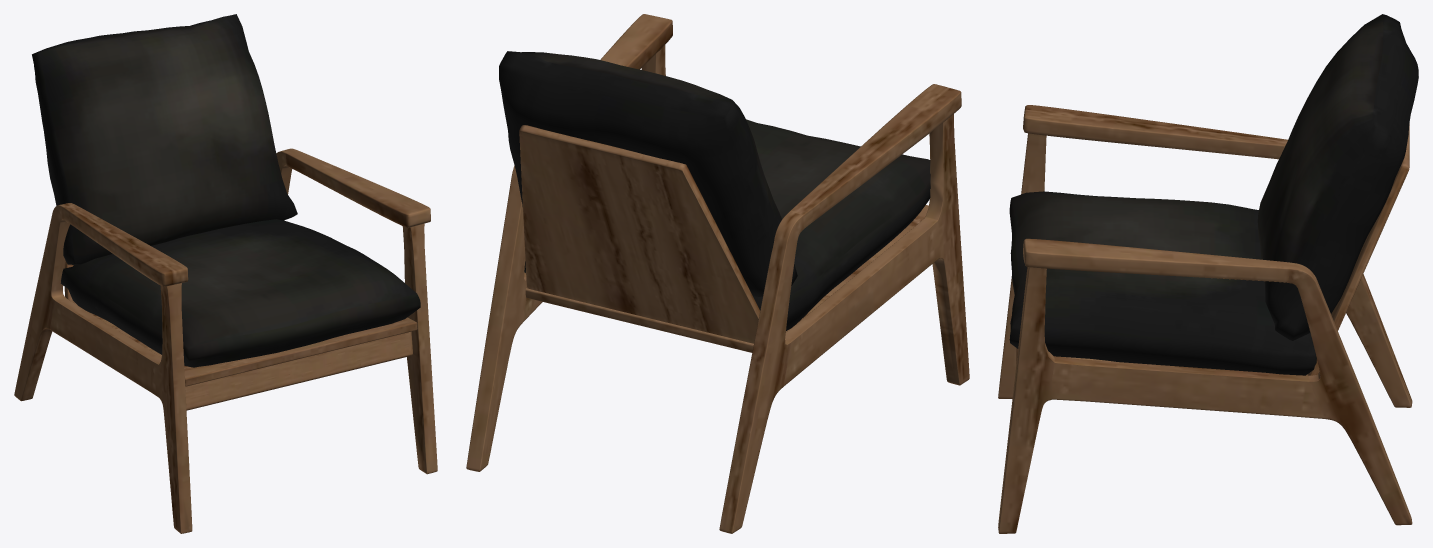
File: modern_arm_chair_01.glb
3 views of the same model, side by side, from view 1: azimuth 30°, elevation 25°; view 2: azimuth 150°, elevation 25°; view 3: azimuth 270°, elevation 25° (orthographic). The views are drawn at different scales.
Parts seen in each view (by area): view 1: modern_arm_chair_01; view 2: modern_arm_chair_01; view 3: modern_arm_chair_01.
Boxes of the visible parts, box(x1,y1,x2,y2) form: modern_arm_chair_01: box(14, 14, 437, 533); modern_arm_chair_01: box(466, 14, 969, 533); modern_arm_chair_01: box(998, 14, 1418, 533).
Bounding box in the file's own units: 0.8203 × 1.02 × 0.9866.
Materials: 2 (2 with a texture image).
